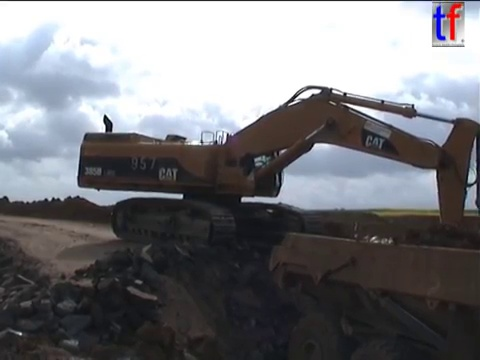excavator: (74, 83, 480, 280)
truck: (265, 213, 480, 360)
